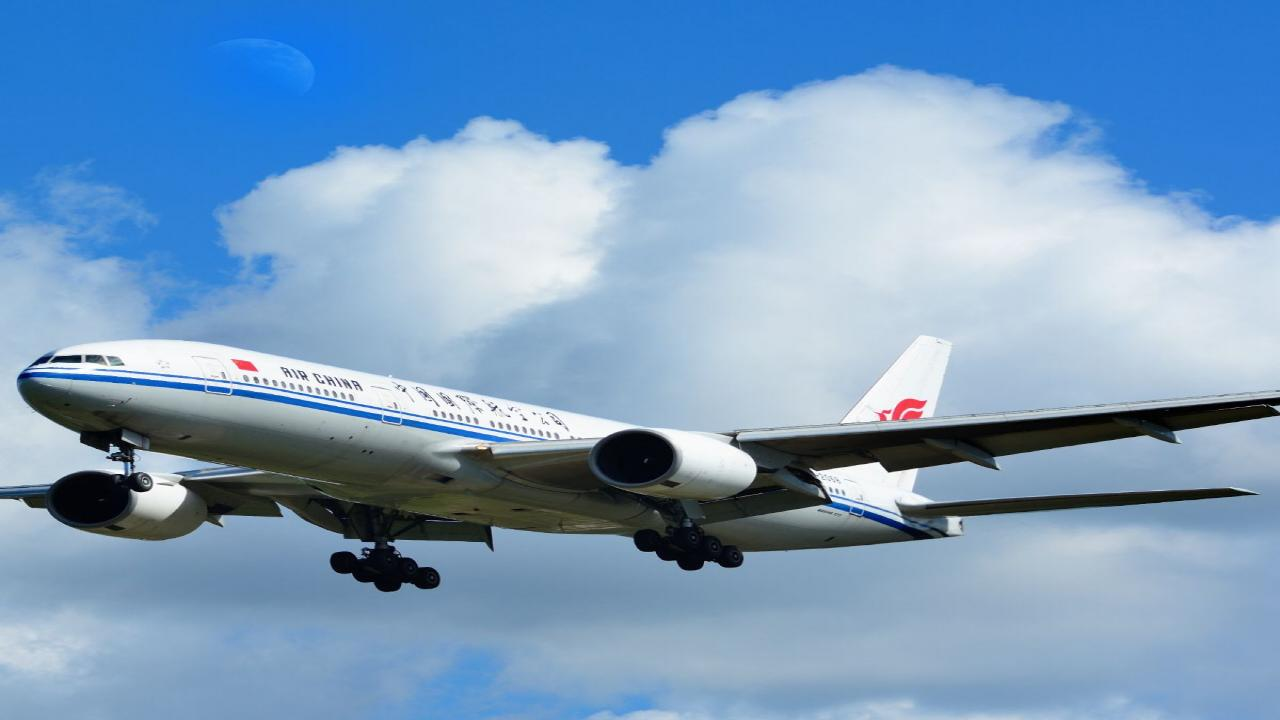Airplane: (0, 312, 1280, 606)
